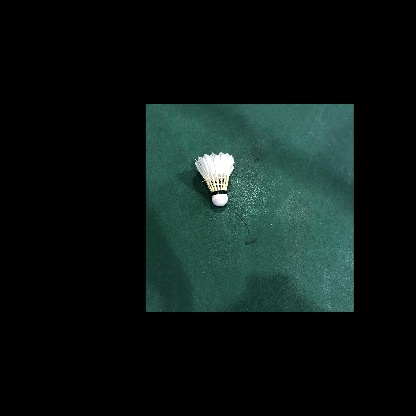ball_single: (195, 152, 235, 206)
